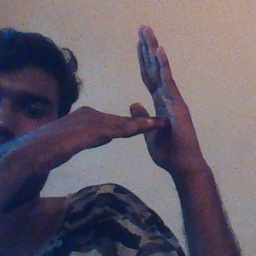Z: (80, 20, 203, 175)
